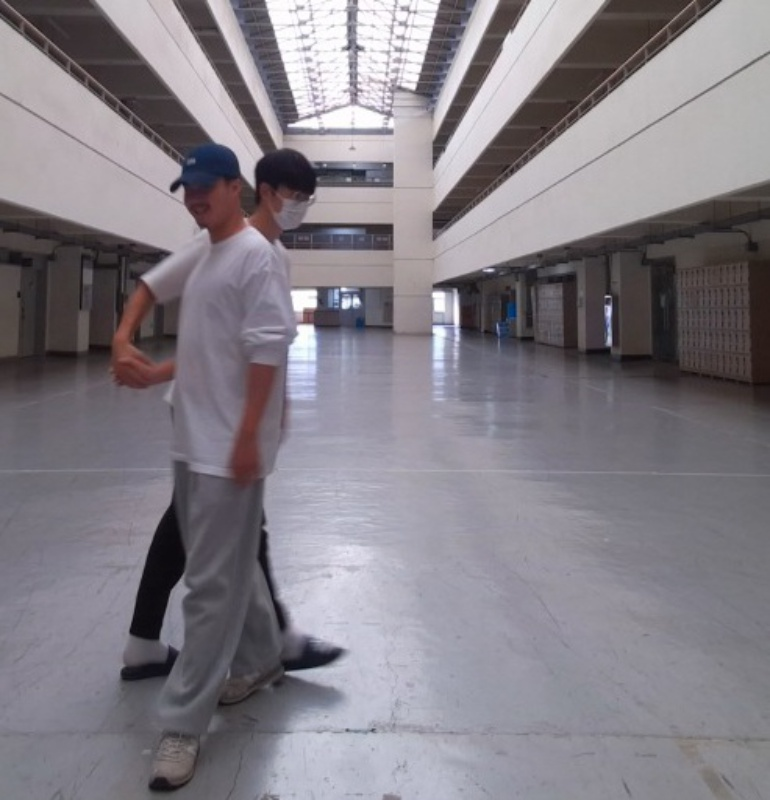person: (108, 141, 293, 798)
